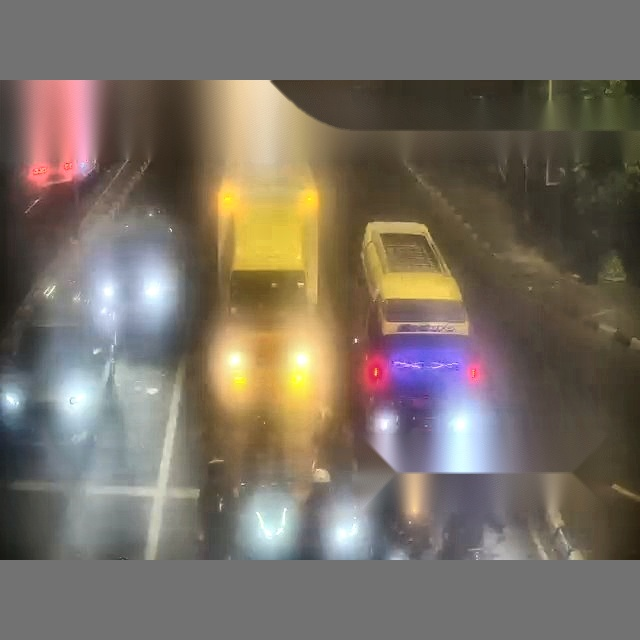Mobil: (362, 220, 454, 298)
Motor: (230, 481, 299, 558)
Truk: (21, 79, 106, 194)
